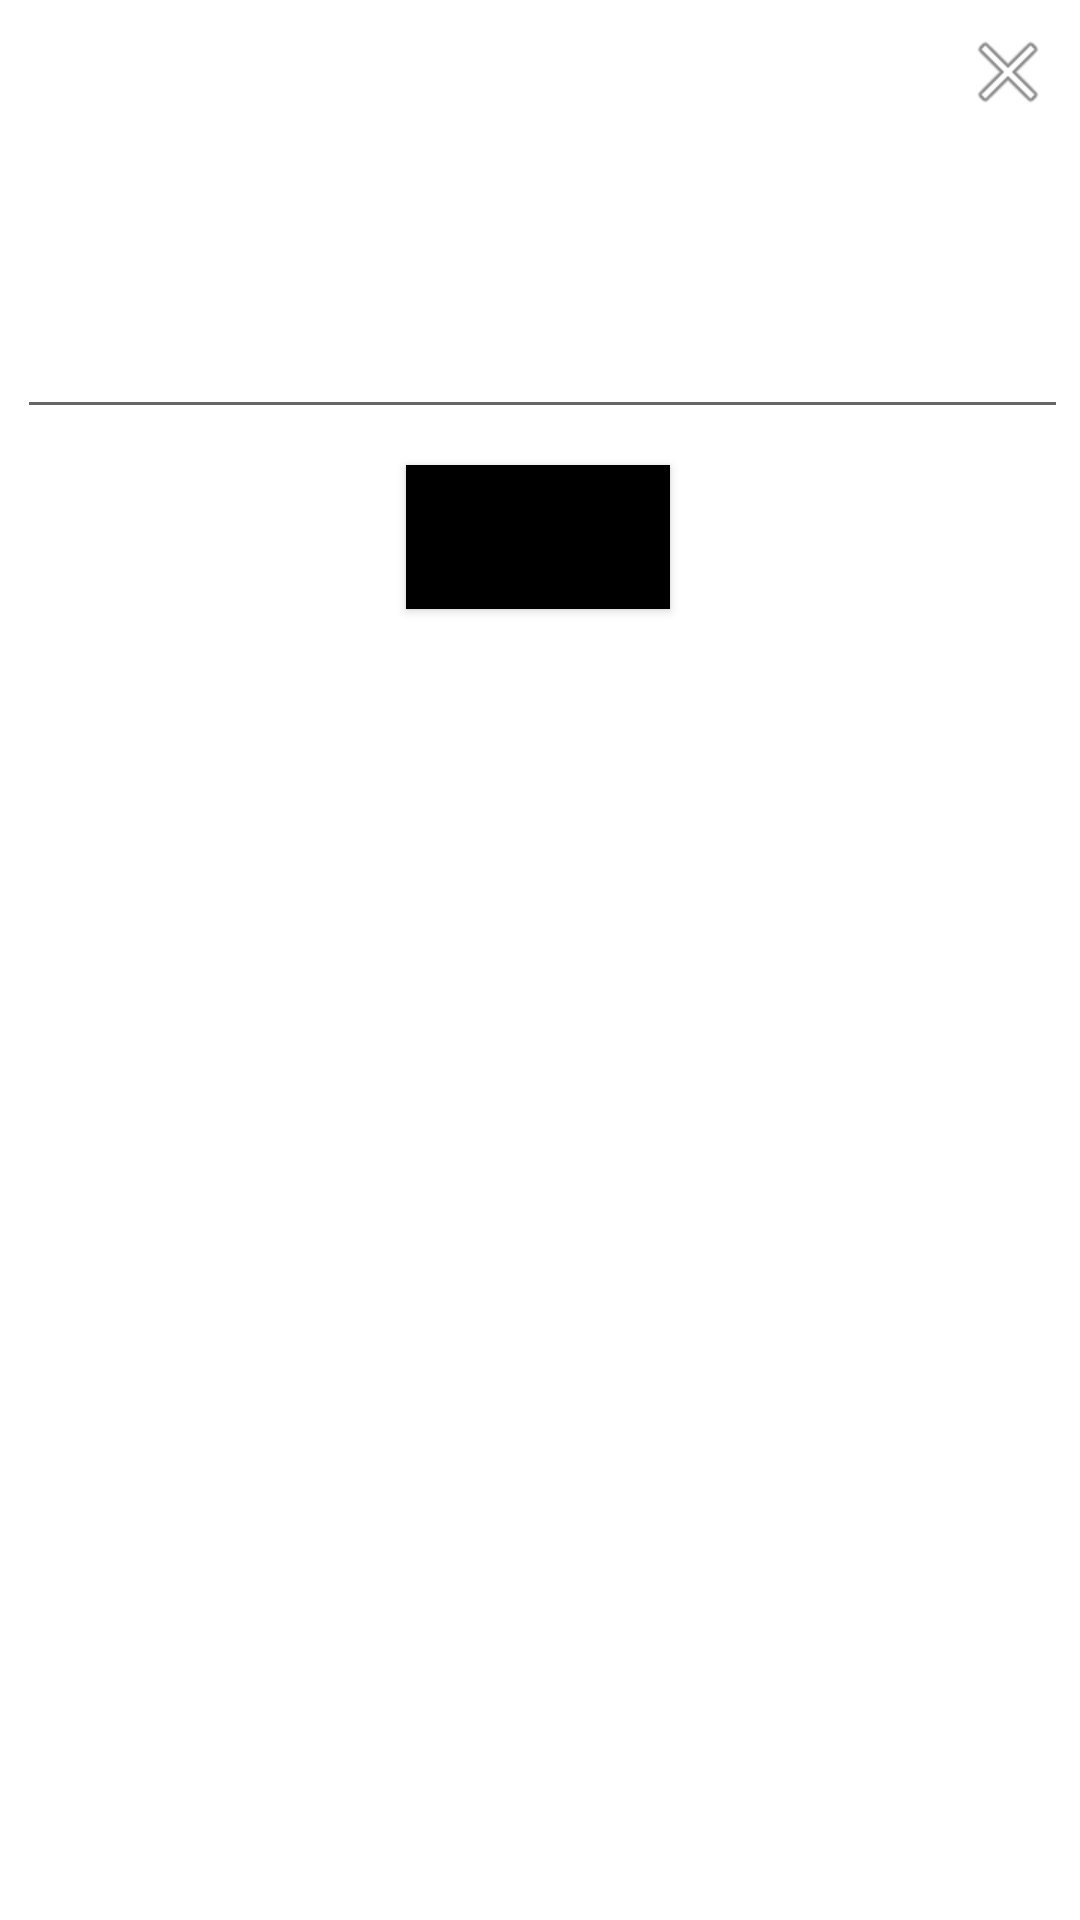

Icon bounding boxes for this 1080 × 1920 phone screenshot, format {"x1": x1, "y1": y1, "x2": x2, "y2": y2}:
close clear cancel: {"x1": 978, "y1": 42, "x2": 1038, "y2": 102}
